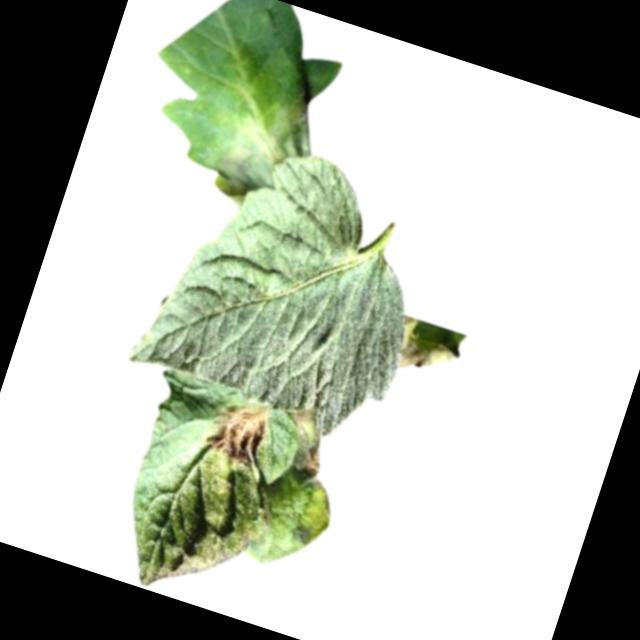Late_blight: (203, 74, 327, 223), (198, 394, 281, 472), (393, 313, 467, 383), (288, 443, 335, 496)
healthy: (122, 123, 450, 451)
